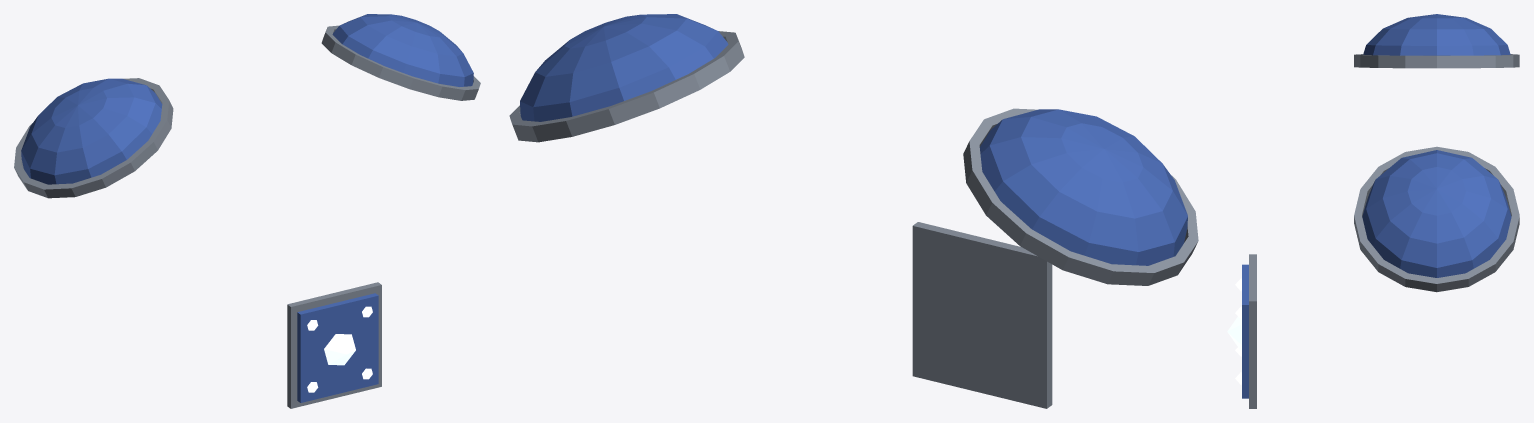
Rendered from armor_guard_chest_rare_orc.glb.
3 renders of one model, left to right at view 1: azimuth 30°, elevation 25°; view 2: azimuth 150°, elevation 25°; view 3: azimuth 270°, elevation 25°, orthographic. The views are drawn at different scales.
Visible parts, largest first — view 1: armor_guard_chest_rare_orc__clavicle_r, armor_guard_chest_rare_orc__spine_03, armor_guard_chest_rare_orc__clavicle_l; view 2: armor_guard_chest_rare_orc__clavicle_r, armor_guard_chest_rare_orc__spine_03, armor_guard_chest_rare_orc__clavicle_l; view 3: armor_guard_chest_rare_orc__clavicle_l, armor_guard_chest_rare_orc__clavicle_r, armor_guard_chest_rare_orc__spine_03.
Part boxes in pixels (x1,y1,x2,y2): armor_guard_chest_rare_orc__clavicle_r: (14,78,173,198); armor_guard_chest_rare_orc__spine_03: (287,282,381,408); armor_guard_chest_rare_orc__clavicle_l: (321,14,480,100); armor_guard_chest_rare_orc__clavicle_r: (963,108,1198,285); armor_guard_chest_rare_orc__spine_03: (912,222,1052,408); armor_guard_chest_rare_orc__clavicle_l: (509,14,744,142); armor_guard_chest_rare_orc__clavicle_l: (1354,146,1519,292); armor_guard_chest_rare_orc__clavicle_r: (1354,14,1519,68); armor_guard_chest_rare_orc__spine_03: (1227,254,1256,408).
Size of the model in its own units: 69.81 by 41.52 by 37.43.
